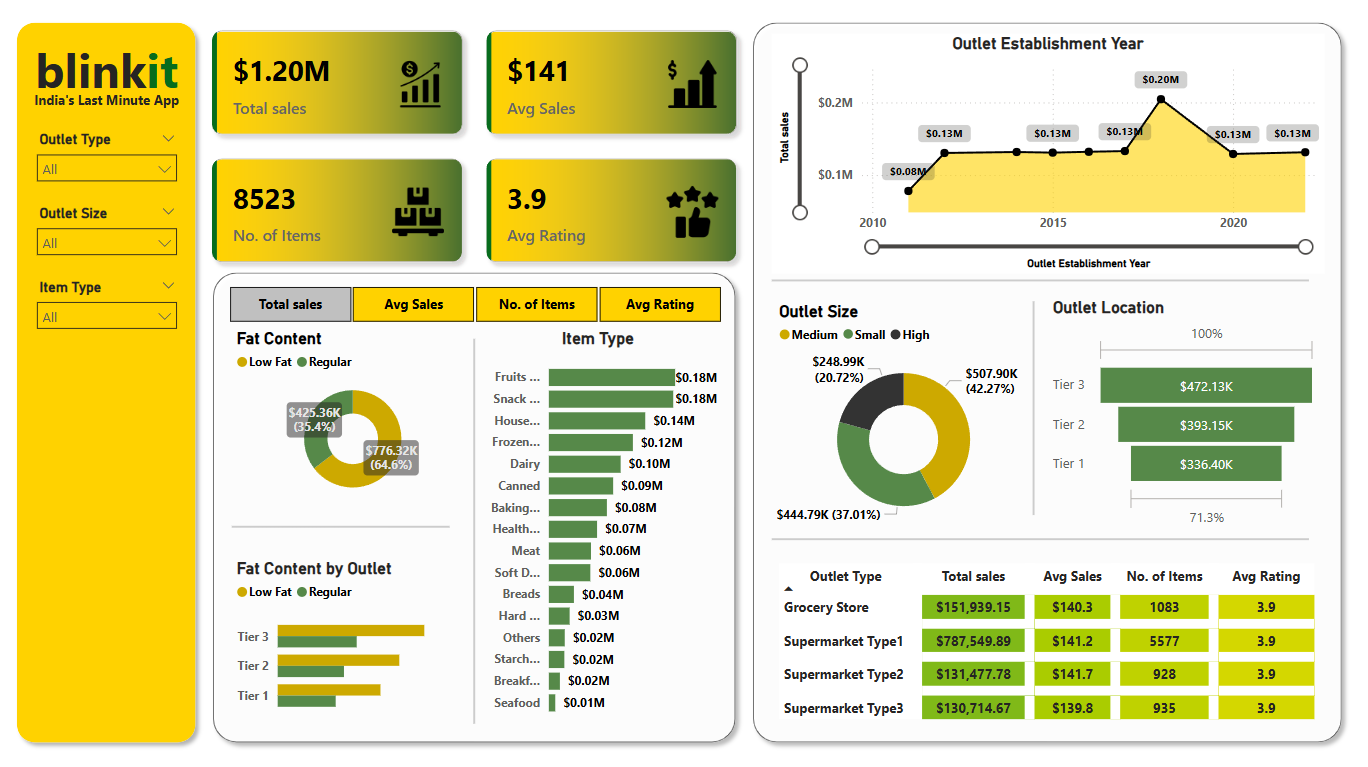

Layout of this report page (visuals, bound fields, positions):
{"tool":"powerbi","page":{"name":"Page 1","canvas":[1400,800],"ordinal":0},"visuals":[{"type":"shape","box":[10.2,24.2,199.7,750.4],"z":0},{"type":"textbox","box":[19.9,43.4,180.4,83.2],"z":1000},{"type":"textbox","box":[19.9,98.4,180.4,28.1],"z":2000},{"type":"cardVisual","fields":{"Data":["BlinkIT Grocery Data.Total sales","BlinkIT Grocery Data.Avg Sales","BlinkIT Grocery Data.No. of Items","BlinkIT Grocery Data.Avg Rating"]},"box":[200.4,24.6,569.4,270.7],"z":3000},{"type":"shape","box":[209.8,278.5,549.4,496],"z":4000},{"type":"slicer","fields":{"Values":["Metrics.Metrics"]},"box":[209.8,295.1,549.4,49.6],"z":5000},{"type":"donutChart","title":"Fat Content","fields":{"Y":["BlinkIT Grocery Data.Total sales"],"Category":["BlinkIT Grocery Data.Item Fat Content"]},"box":[237.8,344.7,246.7,181.9],"z":6000},{"type":"clusteredBarChart","title":"Fat Content by Outlet","fields":{"Y":["BlinkIT Grocery Data.Total sales"],"Series":["BlinkIT Grocery Data.Item Fat Content"],"Category":["BlinkIT Grocery Data.Outlet Location Type"]},"box":[237.8,578.7,246.7,169.2],"z":7000},{"type":"shape","box":[237.8,540.5,226.4,11.4],"z":8000},{"type":"shape","box":[476.9,354.8,15.3,393],"z":9000},{"type":"barChart","title":"Item Type","fields":{"Y":["BlinkIT Grocery Data.Total sales"],"Category":["BlinkIT Grocery Data.Item Type"]},"box":[484.6,344.7,251.8,403.2],"z":10000},{"type":"shape","box":[759.3,24.2,616.8,750.4],"z":11000},{"type":"lineChart","title":"Outlet Establishment Year","fields":{"Y":["BlinkIT Grocery Data.Total sales"],"Category":["BlinkIT Grocery Data.Outlet Establishment Year"]},"box":[787.2,44.5,562.1,244.2],"z":12000},{"type":"donutChart","title":"Outlet Size","fields":{"Y":["BlinkIT Grocery Data.Total sales"],"Category":["BlinkIT Grocery Data.Outlet Size"]},"box":[789.8,316.7,263.3,239.1],"z":13000},{"type":"funnel","title":"Outlet Location","fields":{"Y":["BlinkIT Grocery Data.Total sales"],"Category":["BlinkIT Grocery Data.Outlet Location Type"]},"box":[1068.3,312.9,278.5,239.1],"z":14000},{"type":"shape","box":[787.2,288.7,562.1,14],"z":15000},{"type":"shape","box":[1049.2,316.7,8.9,220],"z":16000},{"type":"shape","box":[787.2,552,562.1,14],"z":17000},{"type":"pivotTable","fields":{"Rows":["BlinkIT Grocery Data.Outlet Type"],"Values":["BlinkIT Grocery Data.Total sales","BlinkIT Grocery Data.Avg Sales","BlinkIT Grocery Data.No. of Items","BlinkIT Grocery Data.Avg Rating"]},"box":[789.8,578.7,557.1,169.2],"z":18000},{"type":"slicer","fields":{"Values":["BlinkIT Grocery Data.Outlet Type"]},"box":[29.3,138.6,162.8,75],"z":18001},{"type":"slicer","fields":{"Values":["BlinkIT Grocery Data.Outlet Size"]},"box":[29.3,213.7,162.8,75],"z":18002},{"type":"slicer","fields":{"Values":["BlinkIT Grocery Data.Item Type"]},"box":[29.3,288.7,162.8,75],"z":18003}]}

Visuals, with their boxes in screenshot pixels (x1, y1, x2, y2), scaled from the page's 1400x800 canvas onto the 1368x767 screenshot:
shape: 10 23 205 743
textbox: 19 42 196 121
textbox: 19 94 196 121
cardVisual - BlinkIT Grocery Data.Total sales x BlinkIT Grocery Data.Avg Sales: 196 24 752 283
shape: 205 267 742 743
slicer - Metrics.Metrics: 205 283 742 330
"Fat Content" donutChart: 232 330 473 505
"Fat Content by Outlet" clusteredBarChart: 232 555 473 717
shape: 232 518 454 529
shape: 466 340 481 717
"Item Type" barChart: 474 330 720 717
shape: 742 23 1345 743
"Outlet Establishment Year" lineChart: 769 43 1318 277
"Outlet Size" donutChart: 772 304 1029 533
"Outlet Location" funnel: 1044 300 1316 529
shape: 769 277 1318 290
shape: 1025 304 1034 515
shape: 769 529 1318 543
pivotTable - BlinkIT Grocery Data.Outlet Type x BlinkIT Grocery Data.Total sales: 772 555 1316 717
slicer - BlinkIT Grocery Data.Outlet Type: 29 133 188 205
slicer - BlinkIT Grocery Data.Outlet Size: 29 205 188 277
slicer - BlinkIT Grocery Data.Item Type: 29 277 188 349
